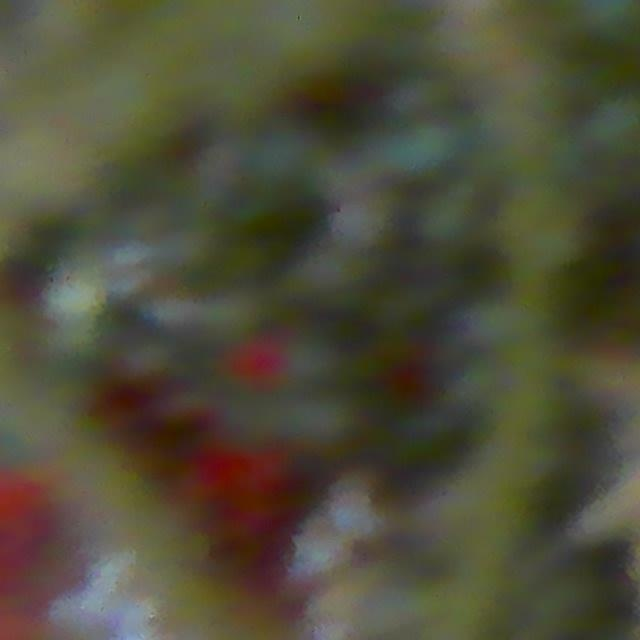SeaGrape: (585, 89, 640, 166)
